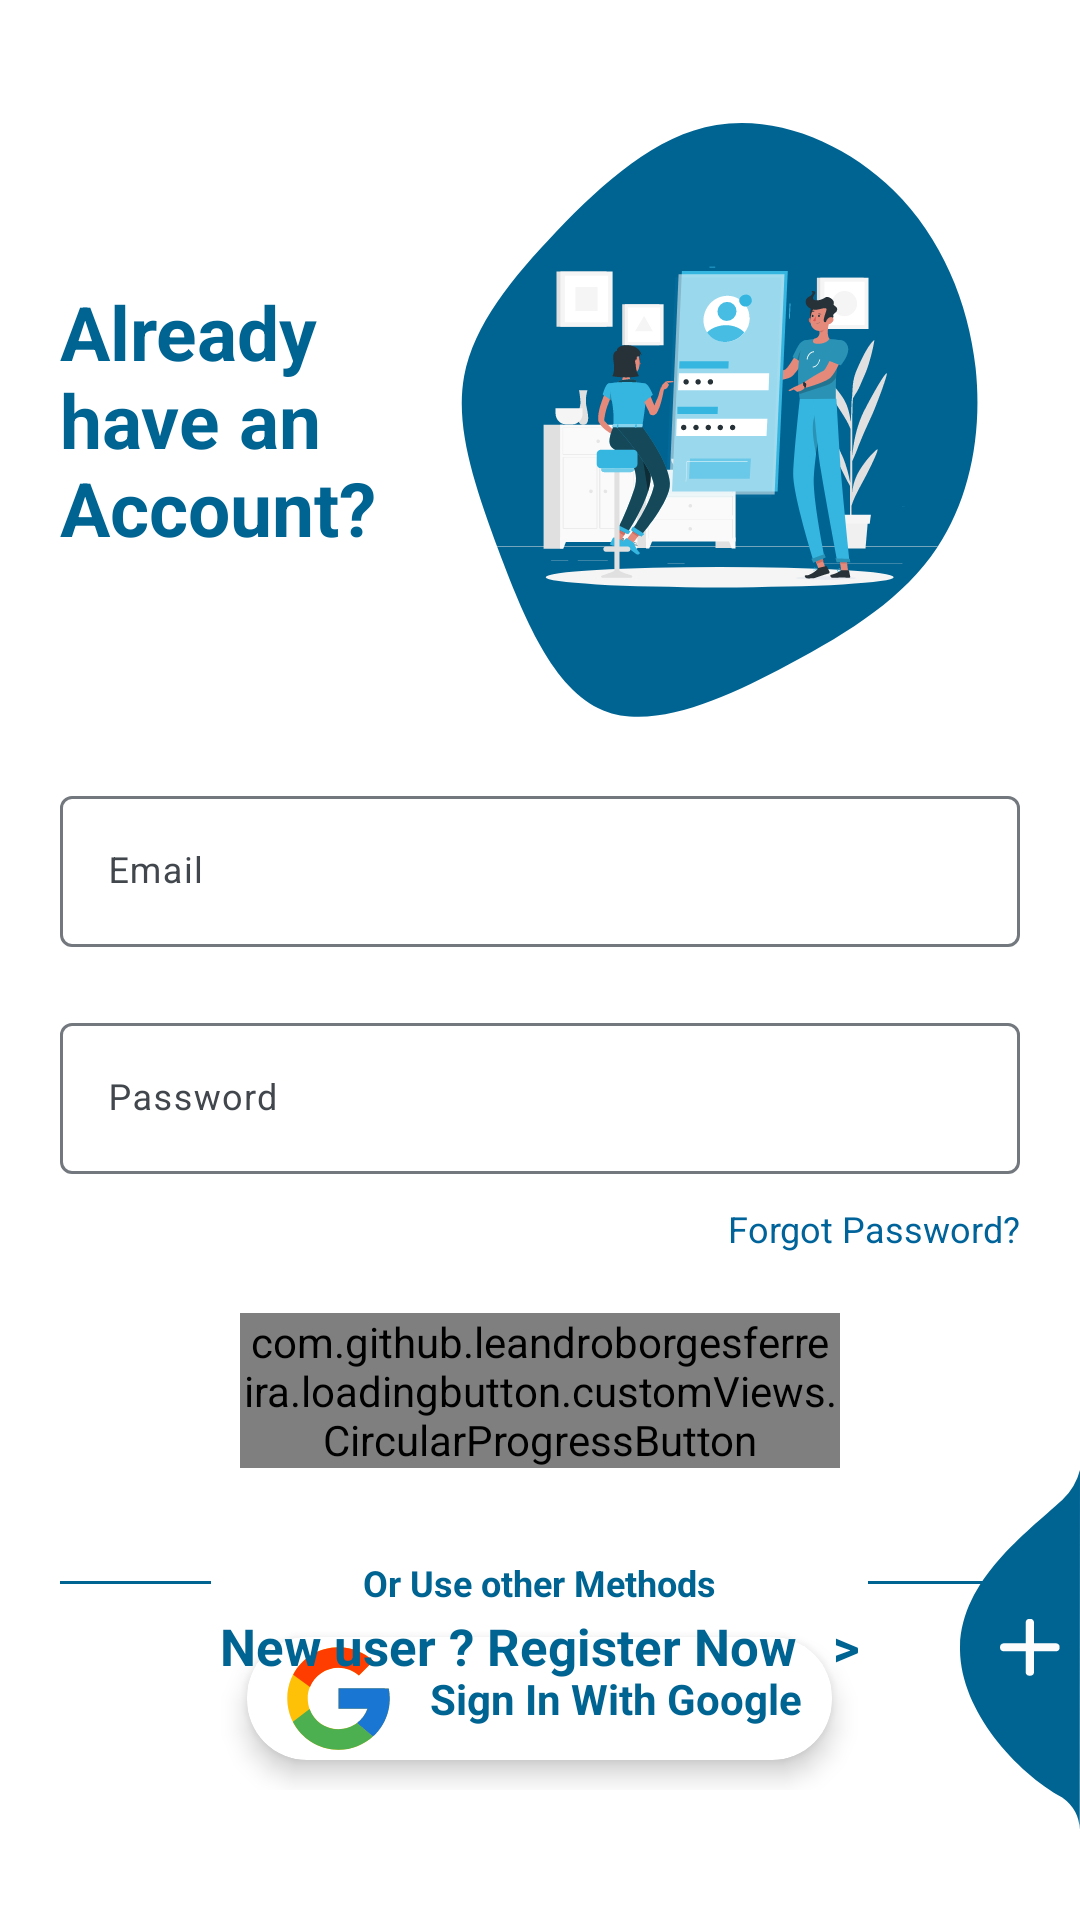

Icon bounding boxes for this 1080x1920 phone screenshot, format (x1, y1, x2, y2):
add: (960, 1470, 1080, 1829)
